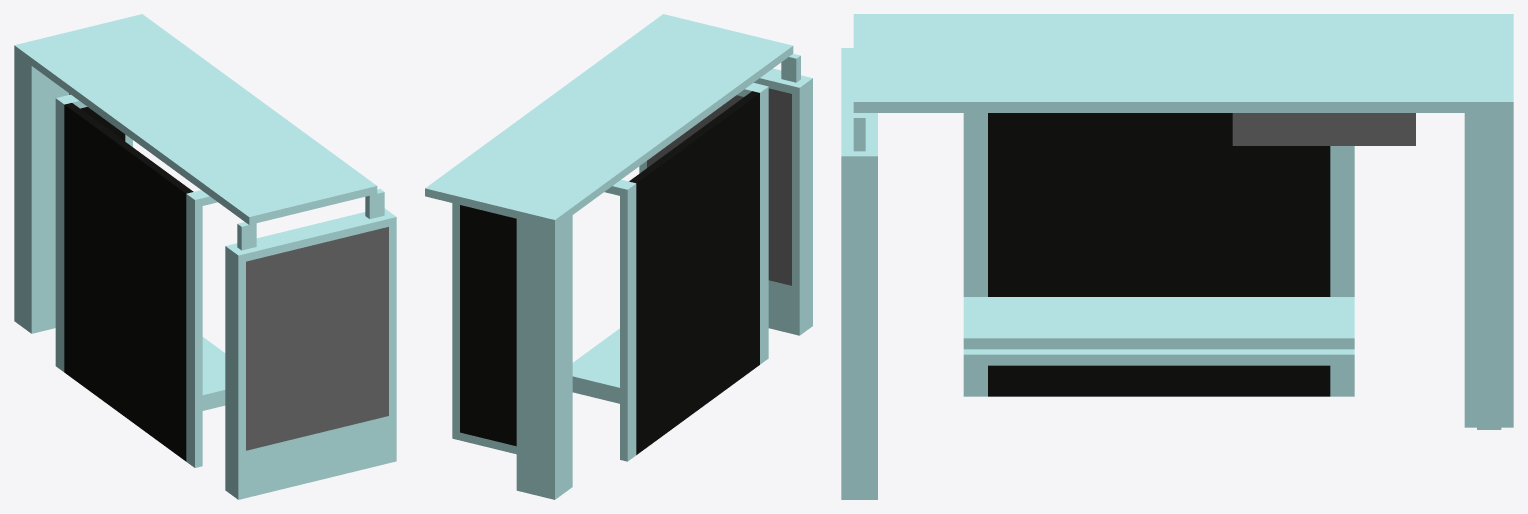
File: Bus_stop.obj
3 views of the same model, side by side, from view 1: azimuth 30°, elevation 25°; view 2: azimuth 150°, elevation 25°; view 3: azimuth 270°, elevation 25° (orthographic). The views are drawn at different scales.
Size of the model in its own units: 2.1 by 3.5 by 5.5.
1 material, 1 textured.
